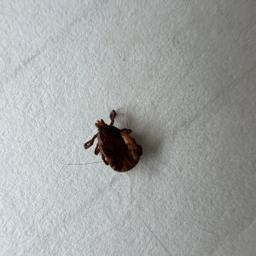Rhipicephalus sanguineus: (82, 109, 140, 172)
